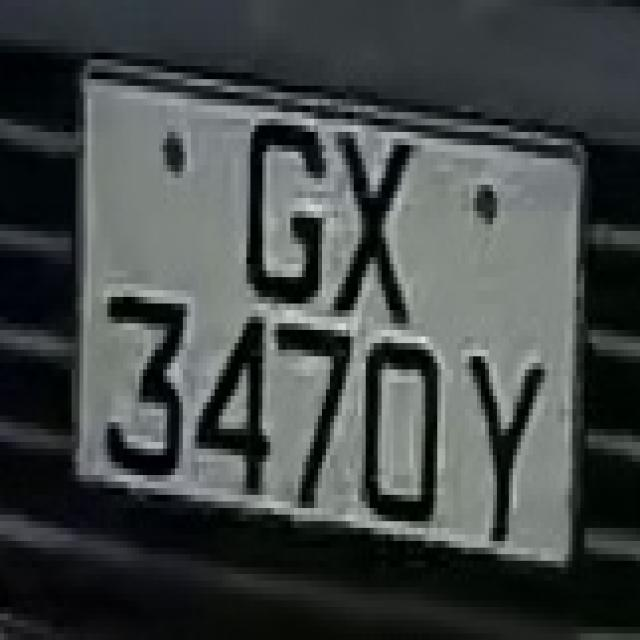0: (350, 297, 445, 541)
3: (95, 244, 187, 495)
4: (179, 284, 282, 521)
7: (274, 297, 358, 515)
G: (227, 92, 326, 324)
X: (338, 86, 421, 336)
Y: (449, 337, 557, 554)
